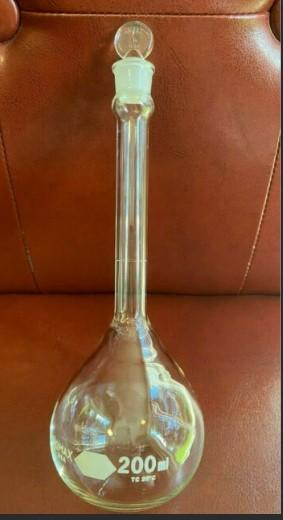Volumetric flask: (49, 22, 204, 511)
